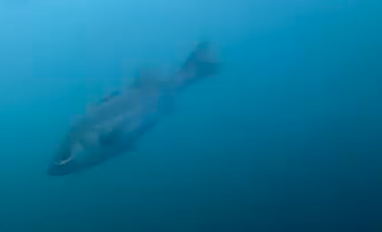suzuki: (44, 33, 226, 177)
